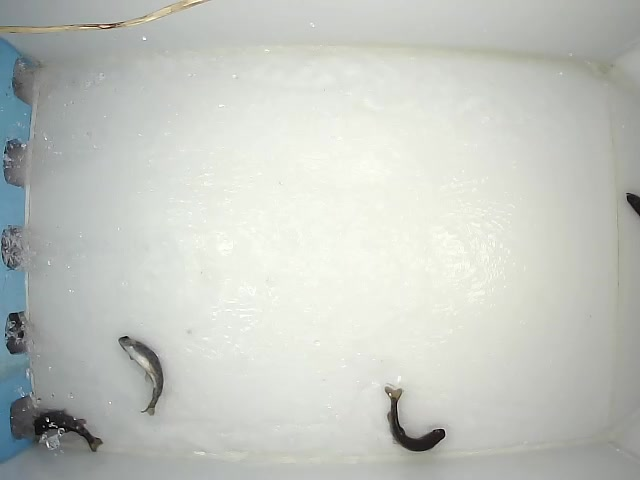fish: (383, 383, 447, 453), (117, 335, 165, 417), (32, 407, 104, 453)
